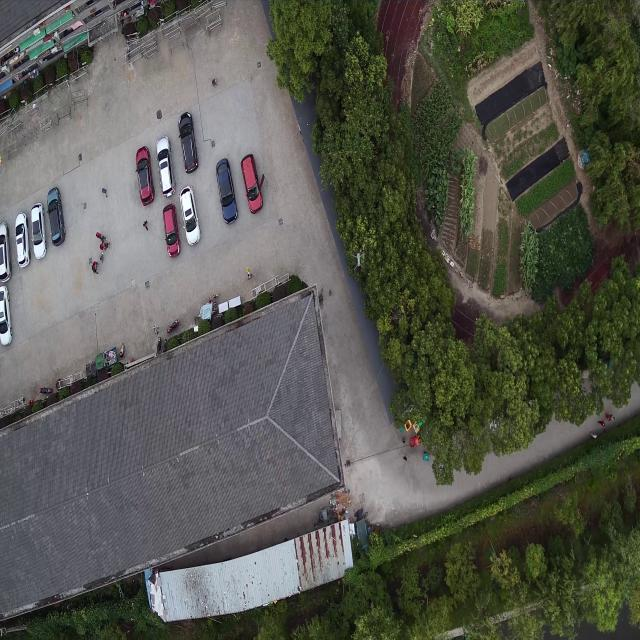UAV: (352, 252, 364, 270)
